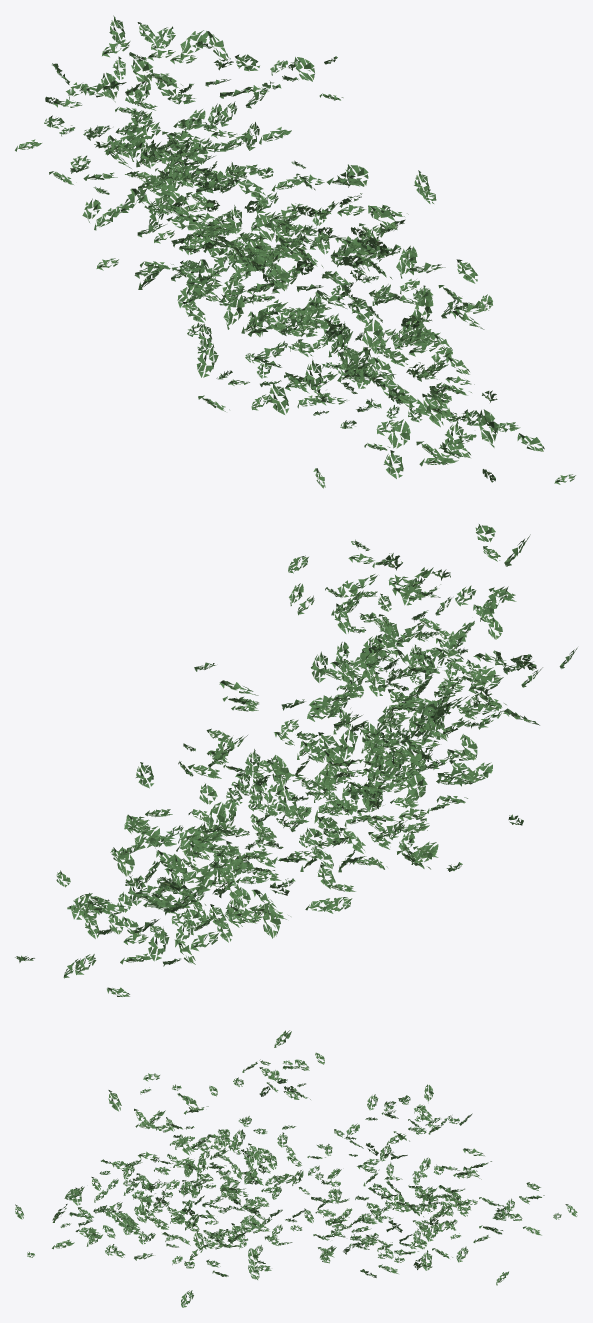
Rendered from holy_canopy8_real.glb.
3 views of the same model, one above another, from view 1: azimuth 30°, elevation 25°; view 2: azimuth 150°, elevation 25°; view 3: azimuth 270°, elevation 25° (orthographic). The views are drawn at different scales.
Visible parts, largest first — view 1: holy_canopy8; view 2: holy_canopy8; view 3: holy_canopy8.
Part boxes in pixels (x1,y1,x2,y2): holy_canopy8: (15, 15, 575, 488); holy_canopy8: (15, 524, 577, 996); holy_canopy8: (15, 1030, 577, 1307).
Size of the model in its own units: 10.03 by 13.35 by 28.82.
1 material, 1 textured.
